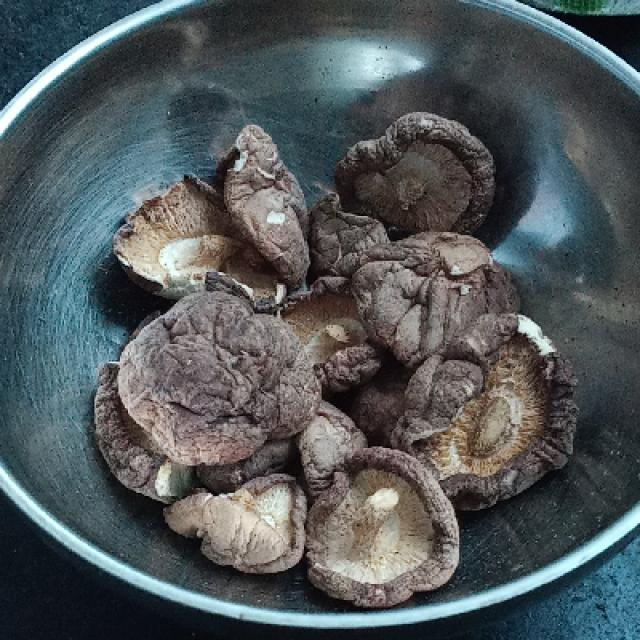Lentinus edodes: (121, 274, 321, 468), (114, 123, 307, 278), (416, 314, 579, 494), (308, 448, 460, 609), (337, 114, 498, 238), (354, 260, 524, 359), (169, 479, 312, 569)
